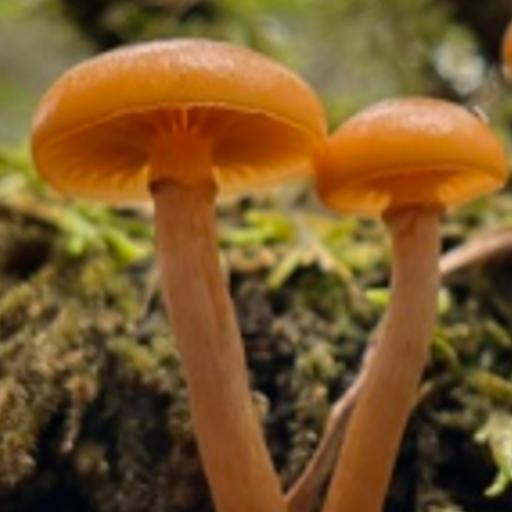mushroom: (25, 23, 506, 367)
